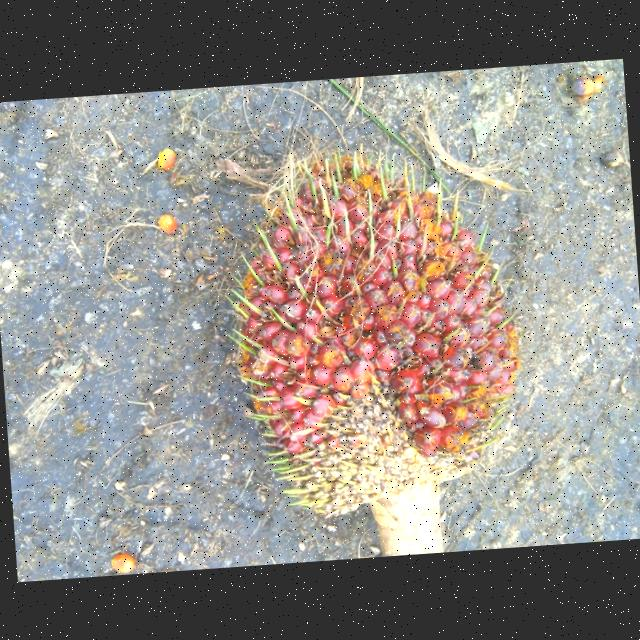Ripe: (234, 151, 515, 511)
